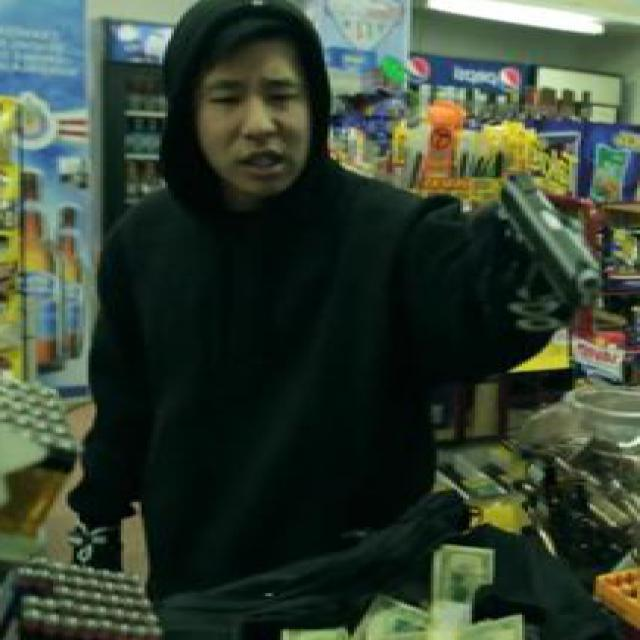Gun: (474, 168, 616, 303)
